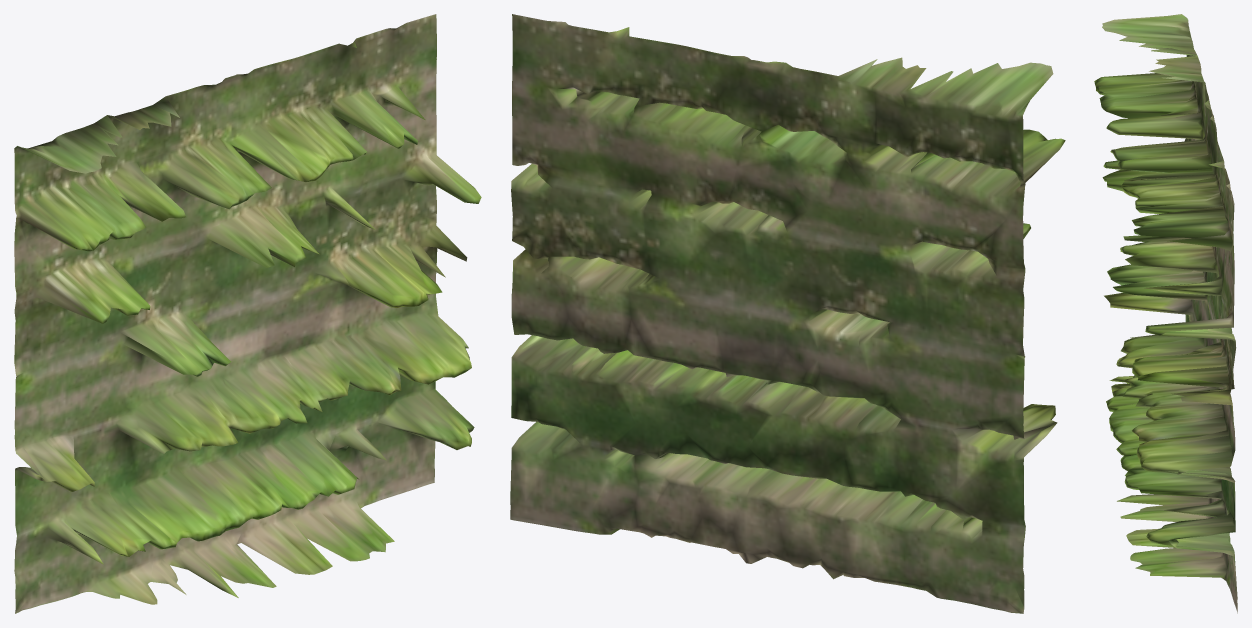
File: map_100_30.obj
3 renders of one model, left to right at view 1: azimuth 30°, elevation 25°; view 2: azimuth 150°, elevation 25°; view 3: azimuth 270°, elevation 25°, orthographic. The views are drawn at different scales.
Size of the model in its own units: 10 by 10 by 3.17.
Materials: 1 (1 with a texture image).
